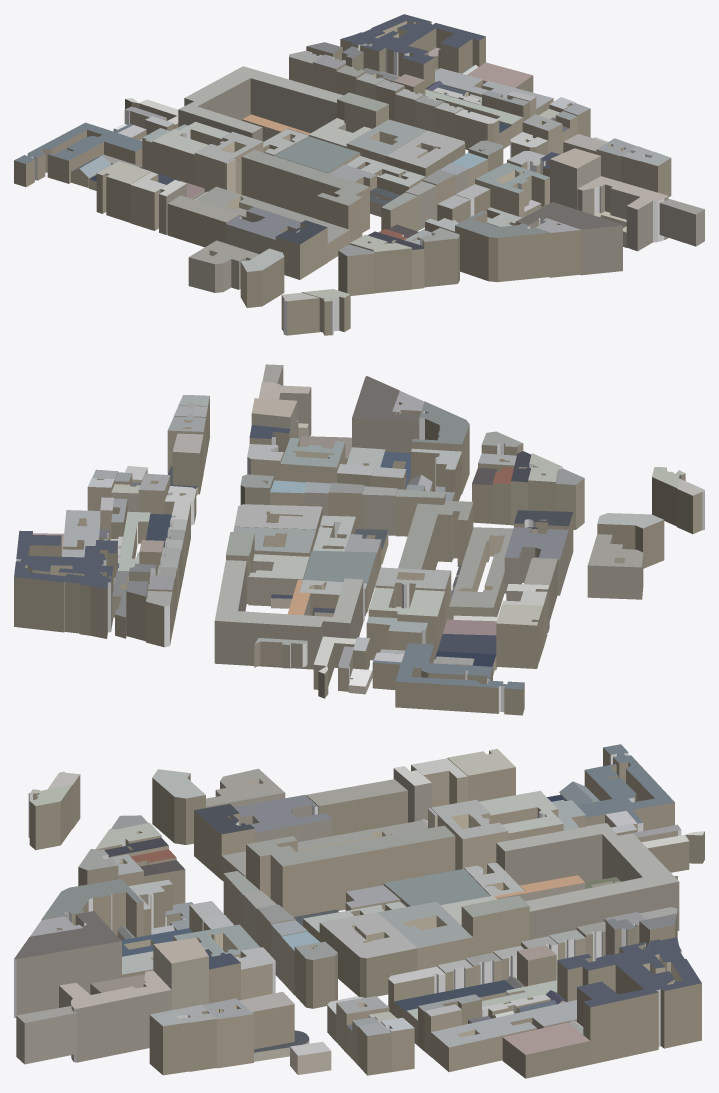
3 views of the same model, one above another, from view 1: azimuth 30°, elevation 25°; view 2: azimuth 150°, elevation 25°; view 3: azimuth 270°, elevation 25° (orthographic). The views are drawn at different scales.
Parts seen in each view (by area): view 1: tuile; view 2: tuile; view 3: tuile.
Part boxes in pixels (bbox=[...]): tuile: bbox=[14, 14, 704, 335]; tuile: bbox=[14, 364, 704, 715]; tuile: bbox=[14, 744, 704, 1078].
Bounding box in the file's own units: 290 × 35.95 × 279.
